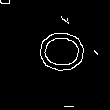O_W: (25, 31, 85, 79)
